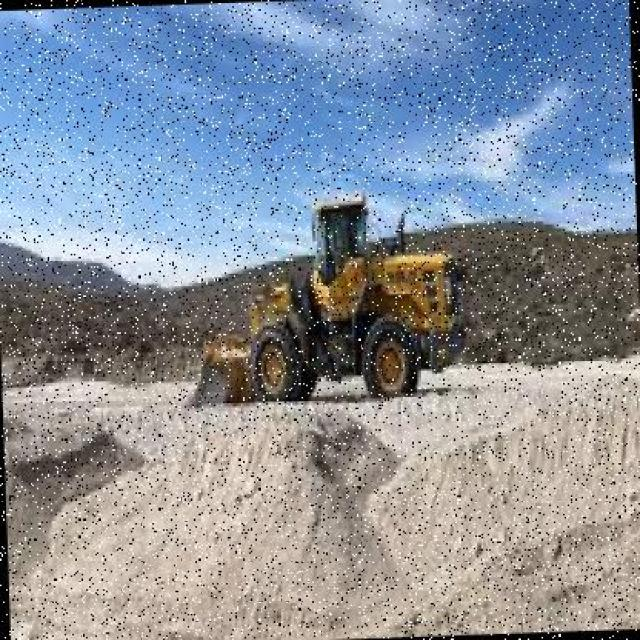buldozerpayloadergrader: (193, 178, 459, 412)
